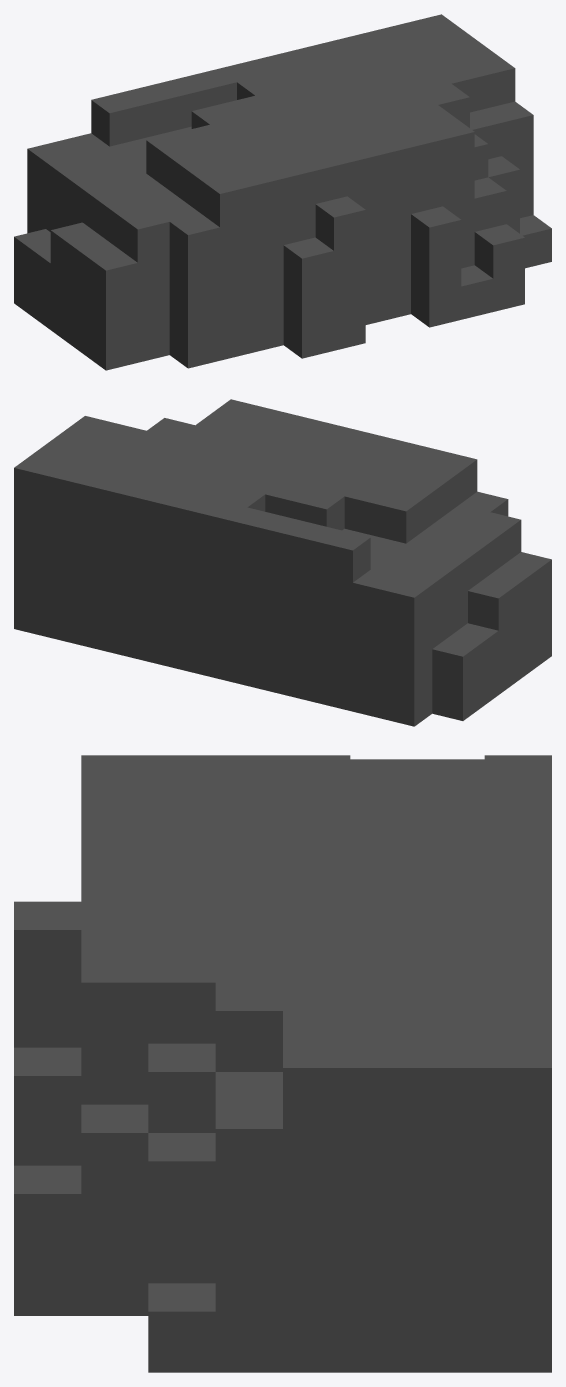
File: pedra-5.obj
3 views of the same model, one above another, from view 1: azimuth 30°, elevation 25°; view 2: azimuth 150°, elevation 25°; view 3: azimuth 270°, elevation 25° (orthographic). The views are drawn at different scales.
Bounding box in the file's own units: 1.4 × 0.5 × 0.8.
Materials: 1 (1 with a texture image).
